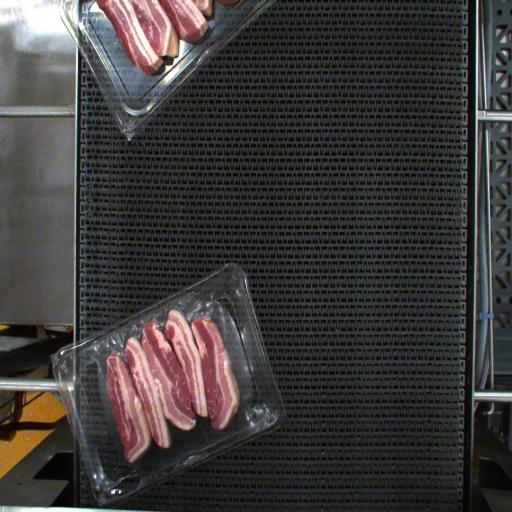unsealed: (75, 284, 265, 486)
